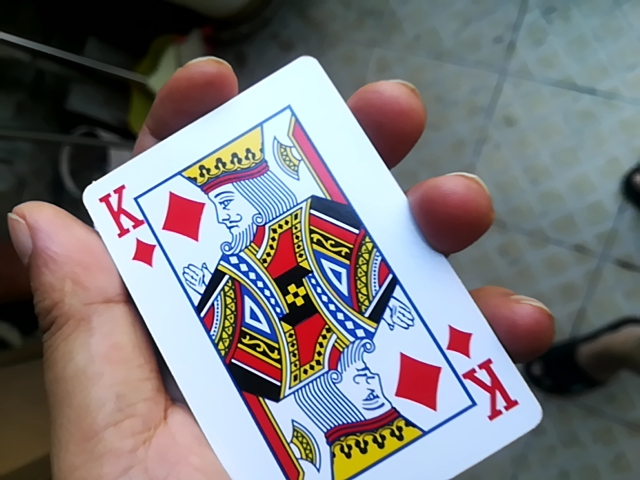fk k: (94, 75, 531, 477)
